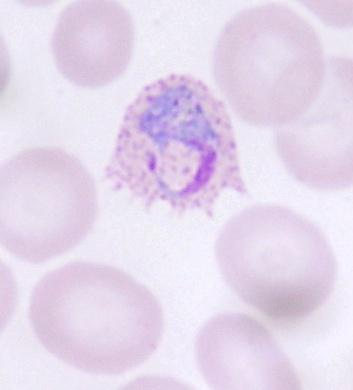Infected: (106, 75, 249, 212)
Uninfected: (30, 263, 165, 372), (214, 206, 334, 322), (212, 3, 323, 126), (0, 146, 97, 265), (274, 53, 353, 189), (198, 309, 304, 390), (49, 0, 136, 86)
